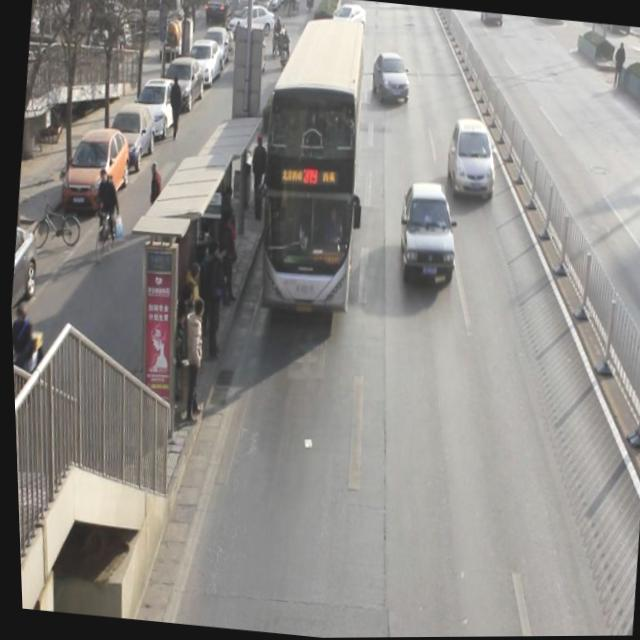car: (391, 185, 461, 286), (441, 122, 500, 200), (368, 52, 413, 106), (331, 3, 369, 38), (478, 12, 505, 28)
van: (242, 13, 376, 319)
